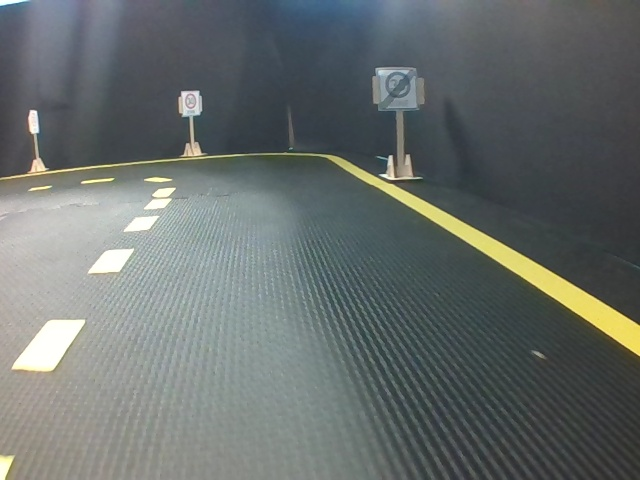30: (181, 90, 198, 115), (29, 111, 39, 134)
no30: (377, 66, 415, 108)
